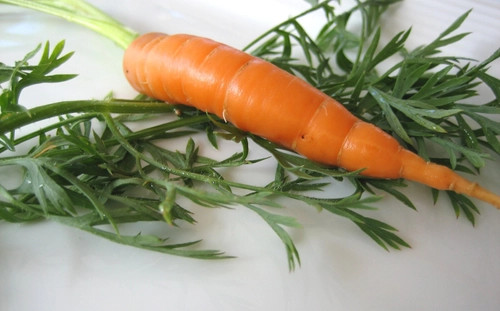carrot: (65, 8, 497, 208)
